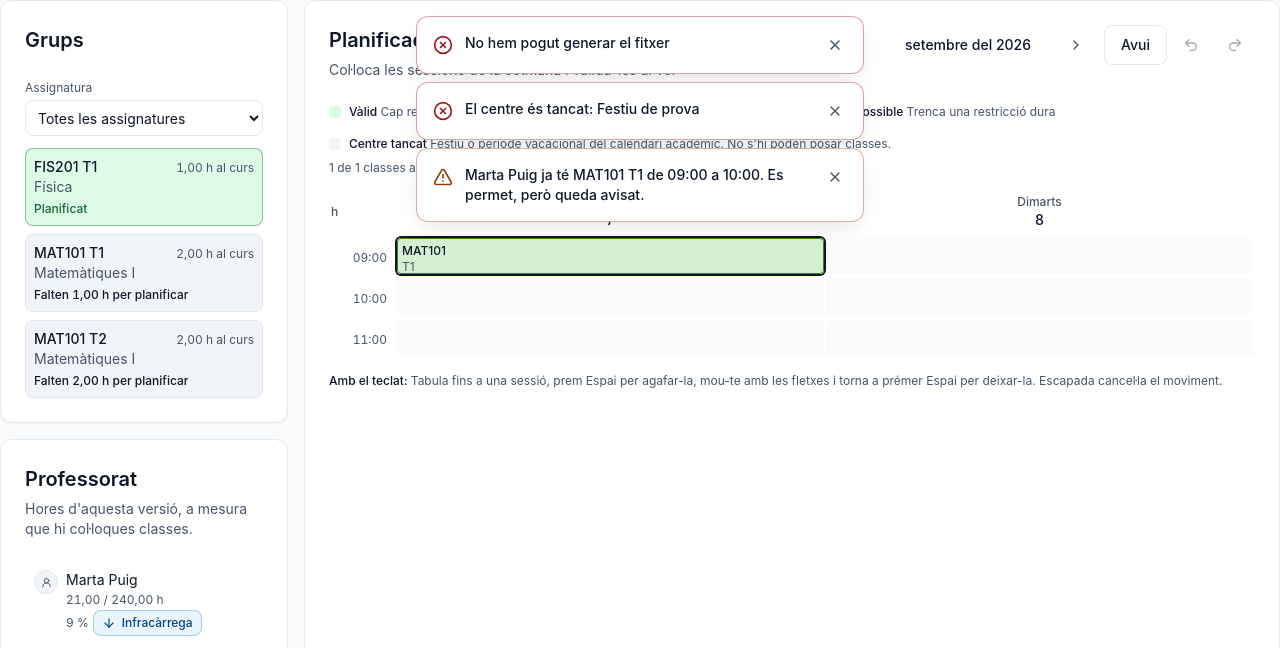
Test: the visual planner › changing how long a class lasts › shows the hour it would become while the edge is being dragged
The width and height of the screenshot is (1280, 648).
Press the mouse on the button named "Allarga o escurça per baix" at (610, 269), box [398,265,823,273]
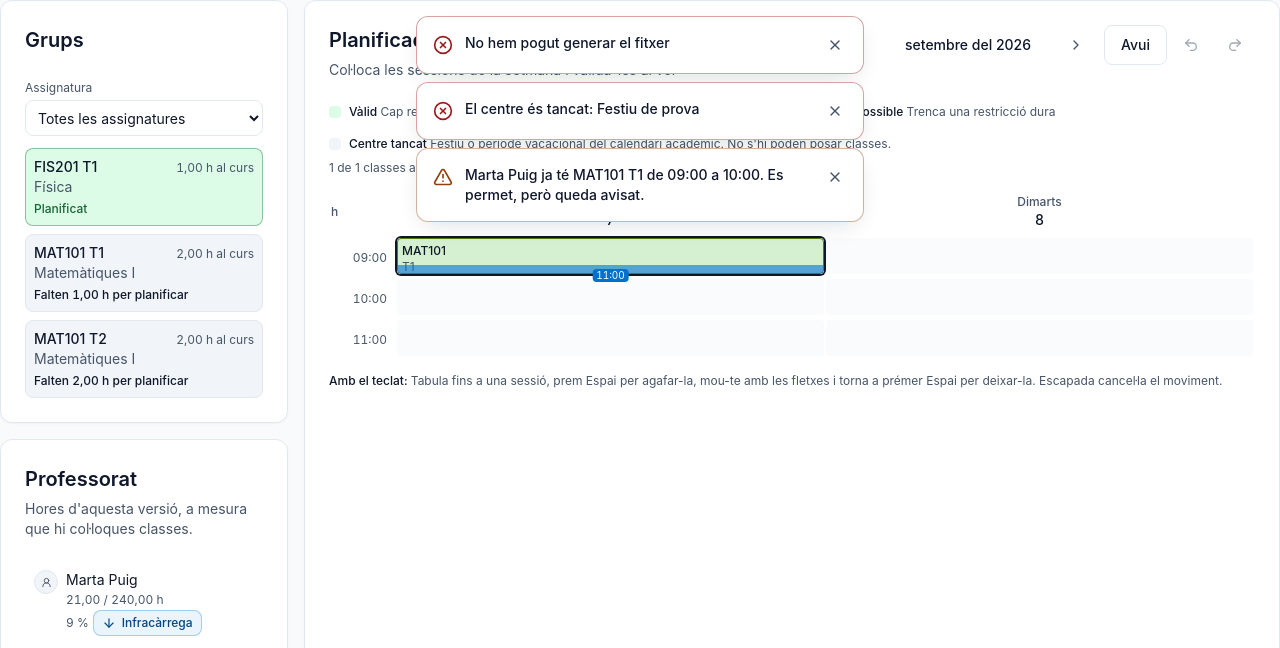
Expected: the button named "Allarga o escurça per baix" reads "11:00", [398,265,823,273]
